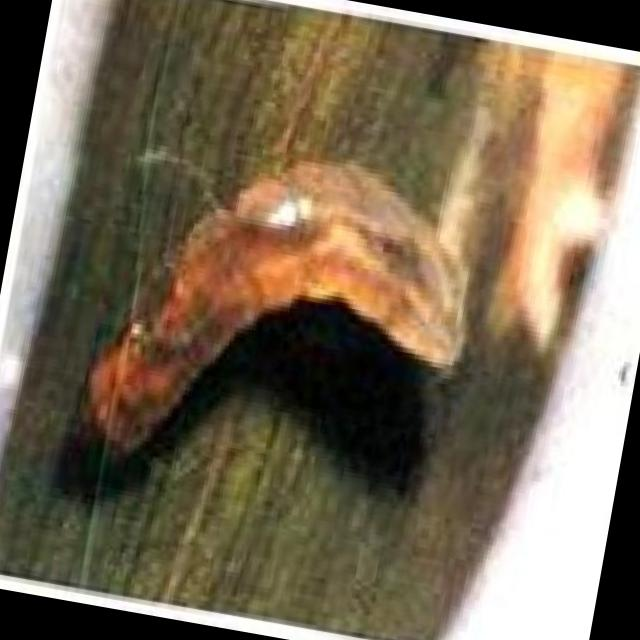whorl-maggot: (80, 152, 465, 471)
